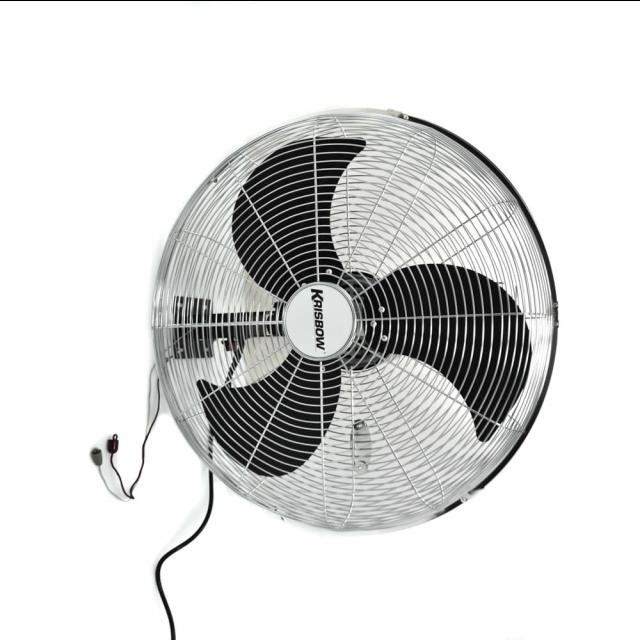fan: (90, 105, 550, 532)
